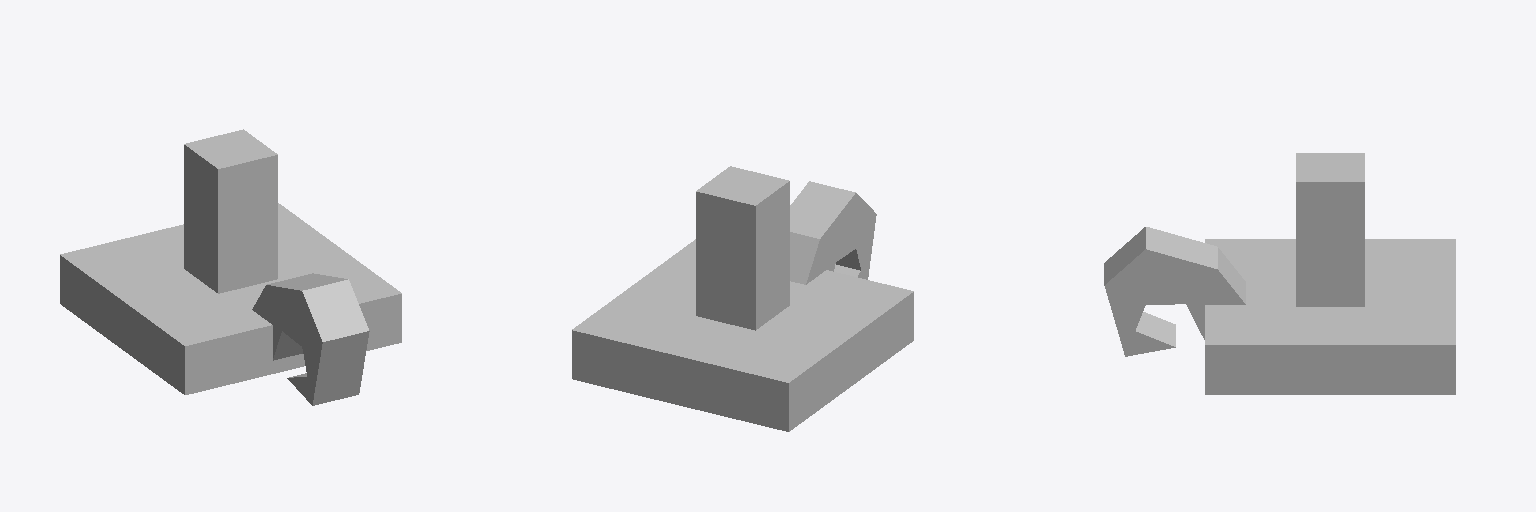
The model's file is hcmwcandleholder.obj.
3 renders of one model, left to right at view 1: azimuth 30°, elevation 25°; view 2: azimuth 150°, elevation 25°; view 3: azimuth 270°, elevation 25°, orthographic.
Visible parts, largest first — view 1: cnadlebase, candlecandle, candlebasehandle; view 2: cnadlebase, candlecandle, candlebasehandle; view 3: cnadlebase, candlebasehandle, candlecandle.
Boxes of the visible parts, <box> form: cnadlebase: <box>60,203,401,394</box>; candlecandle: <box>184,129,277,293</box>; candlebasehandle: <box>252,273,369,405</box>; cnadlebase: <box>572,239,913,431</box>; candlecandle: <box>696,166,789,330</box>; candlebasehandle: <box>790,181,876,284</box>; cnadlebase: <box>1205,239,1455,394</box>; candlebasehandle: <box>1104,227,1245,356</box>; candlecandle: <box>1296,153,1364,306</box>.
Size of the model in its own units: 0.4828 by 0.3751 by 0.6757.